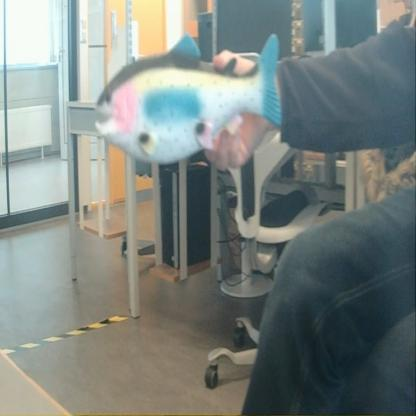rubberfish: (93, 20, 286, 169)
